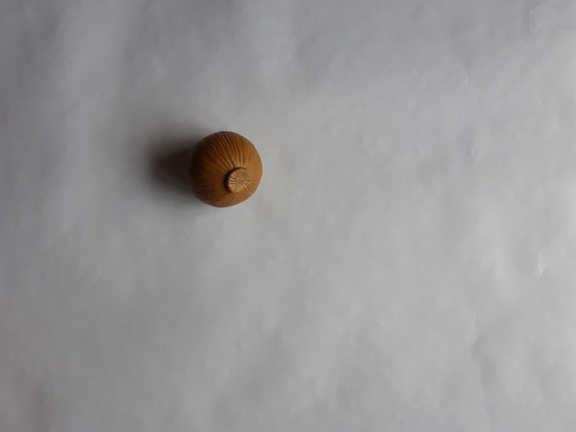onion: (181, 123, 270, 214)
